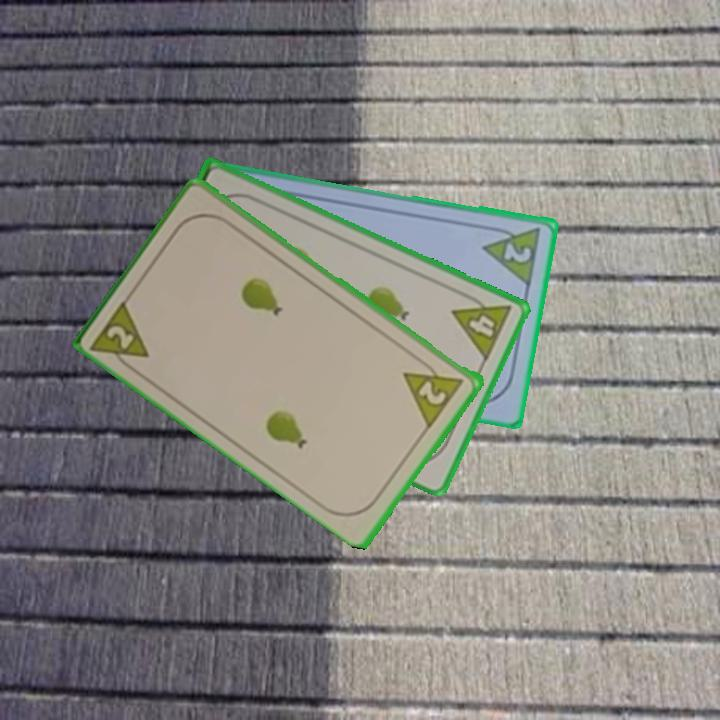2p: (88, 294, 154, 377), (400, 352, 468, 429), (480, 221, 545, 288)
4p: (448, 287, 515, 364)
